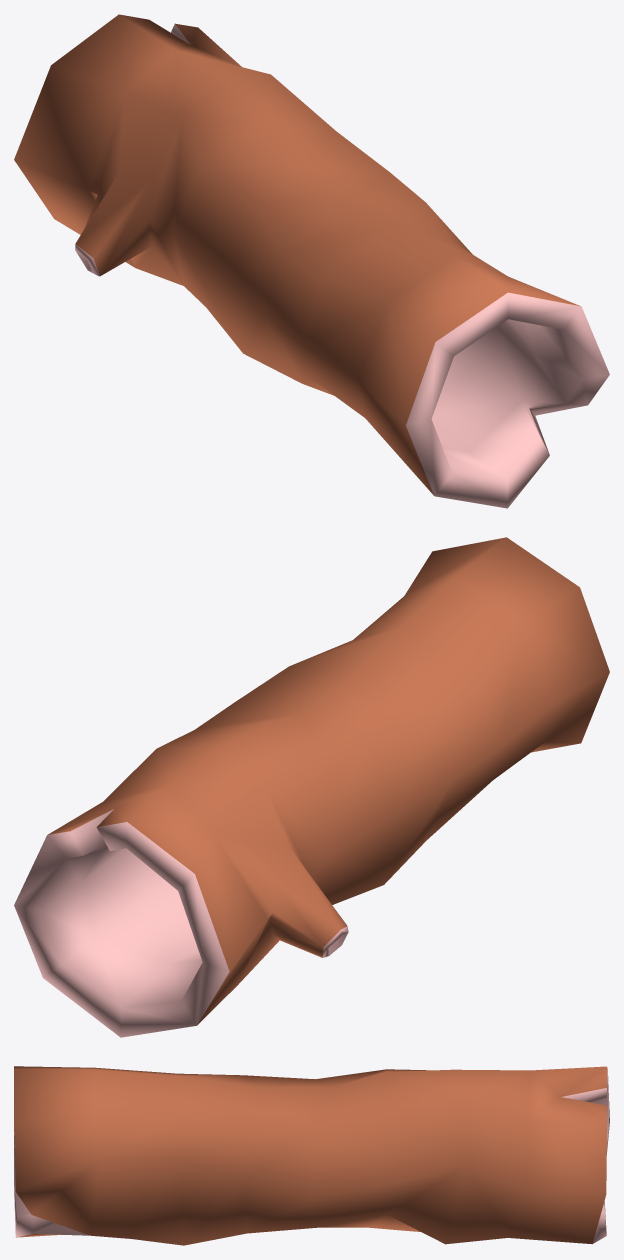
File: log.glb
3 renders of one model, top to bottom at view 1: azimuth 30°, elevation 25°; view 2: azimuth 150°, elevation 25°; view 3: azimuth 270°, elevation 25°, orthographic. The views are drawn at different scales.
Visible parts, largest first — view 1: Log; view 2: Log; view 3: Log.
Boxes of the visible parts, <box> form: Log: <box>14,14,609,508</box>; Log: <box>14,537,609,1037</box>; Log: <box>14,1066,609,1245</box>.
Bounding box in the file's own units: 2.62 × 2.24 × 7.18.
